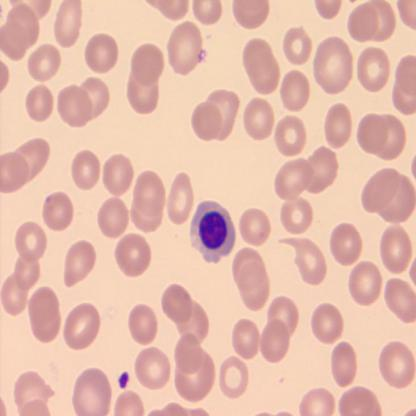NRC: (189, 198, 236, 264)
